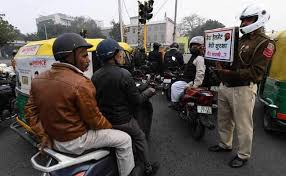helmet: (238, 4, 273, 33)
